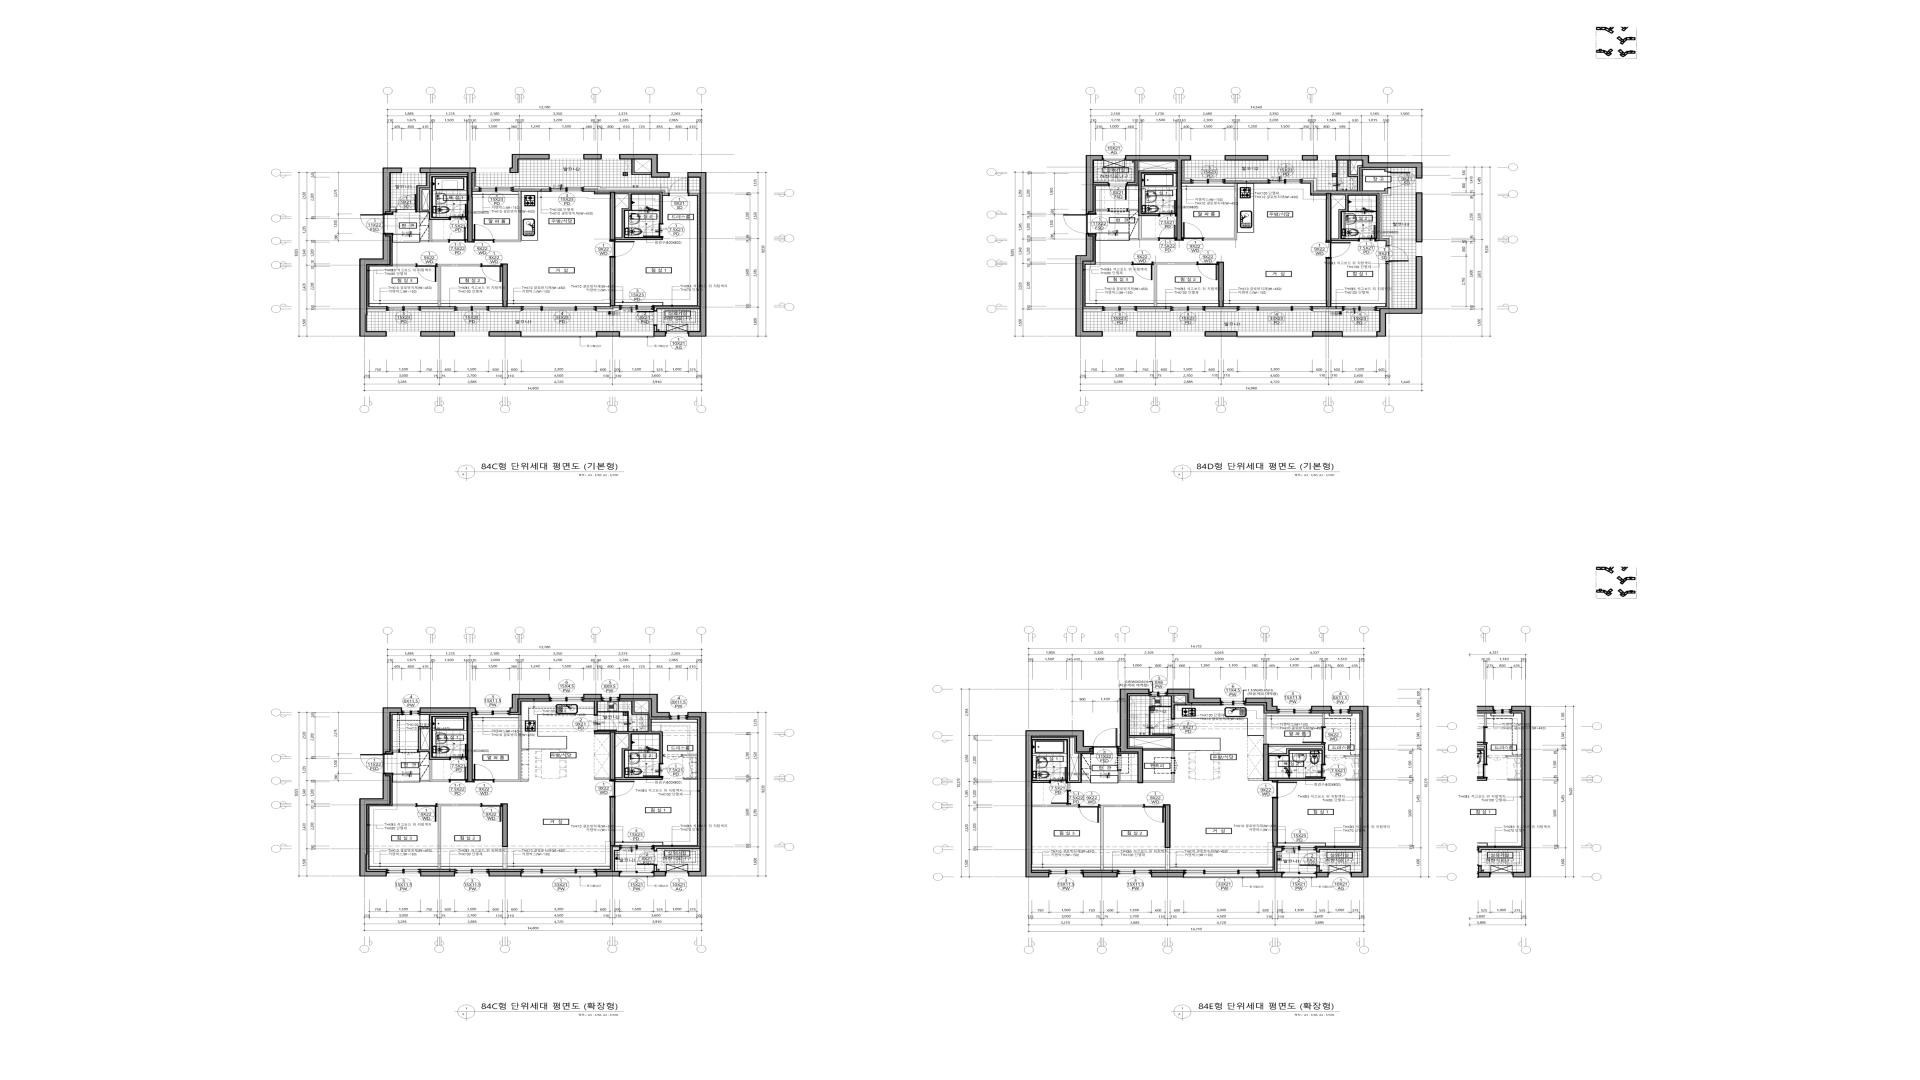door: (1063, 214, 1097, 233), (360, 214, 393, 233), (360, 754, 393, 774), (1093, 728, 1117, 754), (609, 779, 634, 798), (1271, 781, 1298, 798), (1325, 241, 1350, 258), (609, 240, 634, 257), (1197, 261, 1218, 281), (1133, 261, 1154, 281), (1182, 223, 1204, 241), (415, 264, 438, 282), (1079, 804, 1101, 823), (415, 803, 438, 822), (472, 764, 495, 782), (472, 224, 495, 243), (669, 178, 690, 196), (481, 264, 502, 282), (396, 194, 417, 212), (1143, 804, 1164, 823), (481, 803, 502, 822), (1387, 171, 1410, 189), (1386, 245, 1408, 262), (1303, 727, 1325, 744), (1151, 719, 1175, 735), (593, 715, 617, 731), (1109, 183, 1127, 200), (642, 223, 663, 237), (637, 851, 658, 865), (1299, 852, 1320, 866), (450, 744, 467, 761), (450, 766, 467, 783), (1158, 200, 1176, 216), (448, 227, 467, 243), (637, 311, 657, 326), (1051, 790, 1071, 804), (1305, 764, 1325, 778), (642, 764, 663, 777), (1358, 225, 1375, 241), (1159, 225, 1176, 241), (450, 204, 467, 220), (1050, 767, 1067, 783), (663, 754, 683, 760), (1325, 756, 1345, 761), (398, 749, 418, 754), (1108, 208, 1127, 214), (1171, 758, 1178, 773)
wall: (1026, 731, 1093, 877), (1125, 156, 1191, 241), (419, 167, 476, 243), (419, 707, 476, 782), (1377, 256, 1423, 336), (1127, 170, 1176, 240), (1349, 705, 1369, 877), (418, 715, 467, 782), (687, 712, 707, 877), (359, 774, 390, 877), (419, 174, 467, 243), (359, 233, 390, 336), (687, 173, 707, 336), (1118, 688, 1150, 783), (616, 719, 663, 779), (1100, 804, 1143, 870), (438, 804, 481, 869), (1076, 233, 1102, 336), (1033, 738, 1091, 783), (616, 191, 663, 240), (1332, 193, 1379, 241), (495, 715, 527, 782), (1336, 156, 1423, 178), (1154, 262, 1197, 306), (1204, 183, 1237, 240), (438, 264, 481, 306), (495, 191, 521, 243), (618, 154, 670, 178), (618, 694, 670, 717), (1269, 744, 1325, 764), (1085, 156, 1104, 214), (1129, 736, 1175, 758), (382, 707, 402, 754), (382, 167, 402, 214), (509, 694, 550, 713), (1167, 688, 1221, 703), (509, 154, 550, 173), (584, 186, 669, 194), (1382, 189, 1393, 245), (1348, 161, 1362, 191), (1245, 698, 1278, 711), (1143, 773, 1175, 783), (1416, 193, 1423, 243), (1171, 696, 1185, 719), (609, 257, 616, 306), (609, 191, 616, 240), (1325, 193, 1332, 241), (632, 160, 651, 175), (609, 732, 616, 779), (609, 798, 616, 845), (1325, 258, 1332, 306), (1164, 804, 1171, 848), (1118, 770, 1138, 783), (1273, 798, 1278, 847), (1218, 261, 1224, 307), (502, 803, 508, 847), (502, 264, 508, 307), (1225, 156, 1269, 161), (632, 702, 649, 715), (1127, 161, 1137, 185), (612, 847, 620, 872), (1263, 744, 1269, 781), (1303, 178, 1317, 191), (1083, 872, 1118, 877), (1274, 848, 1282, 872), (1316, 848, 1362, 852), (1389, 262, 1393, 309), (421, 872, 455, 877), (421, 331, 455, 336), (1204, 331, 1238, 336), (1137, 331, 1171, 336), (654, 307, 699, 311), (654, 847, 699, 851), (1151, 872, 1184, 877), (488, 872, 521, 877), (488, 331, 521, 336), (1312, 331, 1342, 336), (1269, 778, 1325, 781), (1258, 872, 1283, 877), (1184, 161, 1191, 181), (596, 872, 620, 877), (596, 331, 620, 336), (1033, 804, 1079, 807), (1263, 713, 1267, 744), (502, 847, 508, 869), (1311, 705, 1332, 711), (1225, 178, 1267, 181), (583, 154, 601, 160), (583, 694, 601, 699), (596, 307, 620, 311), (513, 186, 549, 189), (1096, 262, 1131, 265), (421, 309, 455, 311), (1137, 309, 1171, 311), (1166, 848, 1170, 870), (1316, 872, 1329, 878), (489, 309, 521, 311), (1205, 309, 1237, 311), (1302, 156, 1317, 161), (1313, 309, 1342, 311), (654, 872, 666, 877), (654, 331, 666, 336), (393, 264, 415, 266), (593, 700, 597, 715), (368, 309, 386, 311), (1084, 309, 1102, 311), (1033, 781, 1050, 783), (593, 732, 609, 735), (593, 191, 609, 194), (1311, 193, 1327, 195), (1093, 182, 1109, 185), (1323, 713, 1325, 727), (393, 804, 415, 806), (1067, 783, 1071, 790), (690, 191, 699, 194), (1316, 866, 1320, 872), (393, 749, 398, 753), (683, 754, 698, 756), (1345, 756, 1360, 757), (1249, 779, 1263, 781), (683, 778, 698, 779), (595, 778, 609, 779), (1346, 779, 1360, 781), (654, 865, 657, 872), (1096, 210, 1108, 211), (1387, 167, 1391, 171), (654, 326, 657, 331), (390, 207, 396, 210), (475, 186, 479, 189), (1377, 309, 1379, 311), (1118, 754, 1121, 756)
window: (1184, 869, 1258, 878), (521, 869, 596, 877), (1237, 306, 1313, 311), (521, 306, 596, 311), (1238, 332, 1312, 338), (522, 332, 596, 338), (476, 708, 509, 716), (386, 869, 421, 876), (620, 870, 654, 877), (455, 869, 488, 876), (550, 695, 583, 702), (1278, 707, 1311, 713), (1050, 870, 1083, 877), (1118, 870, 1151, 877), (1283, 872, 1316, 878), (1221, 698, 1245, 705), (1342, 306, 1377, 311), (1171, 306, 1205, 311), (1342, 332, 1377, 338), (1102, 306, 1137, 311), (479, 187, 513, 193), (550, 187, 584, 193), (386, 306, 421, 311), (455, 306, 489, 311), (620, 305, 654, 310), (1282, 845, 1316, 851), (476, 167, 509, 173), (550, 154, 583, 160), (620, 332, 653, 338), (1102, 332, 1137, 336), (1269, 179, 1303, 183), (1191, 179, 1225, 183), (1191, 156, 1225, 160), (386, 332, 421, 336), (402, 708, 419, 716), (620, 845, 654, 849), (1171, 332, 1204, 336), (1269, 156, 1302, 160), (455, 332, 488, 336), (666, 331, 688, 336), (666, 870, 688, 876), (601, 695, 618, 702), (1332, 707, 1349, 713), (1150, 690, 1167, 696), (1104, 156, 1125, 161), (1329, 872, 1350, 877), (402, 167, 419, 173), (601, 154, 618, 160), (670, 715, 687, 720), (1416, 178, 1422, 193), (1317, 156, 1336, 160), (1416, 243, 1422, 256), (670, 173, 687, 177)
